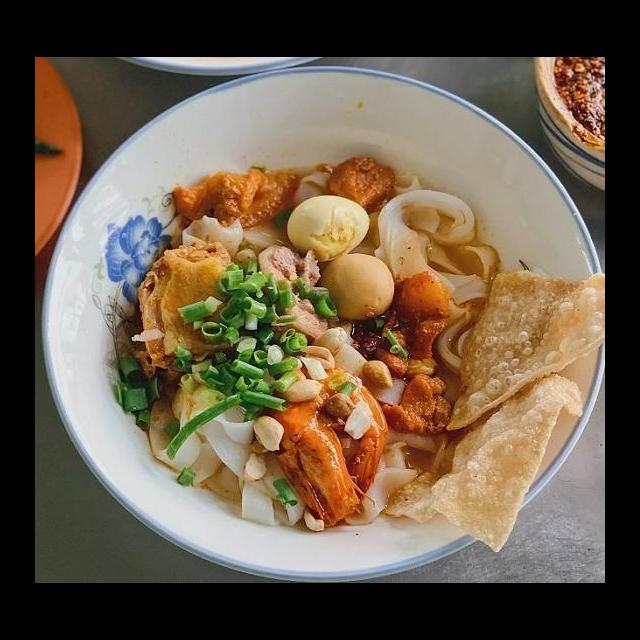banh da: (377, 368, 589, 556), (436, 266, 605, 434)
ca: (344, 266, 451, 377), (167, 164, 305, 232), (377, 371, 454, 438), (325, 152, 399, 220)
mi: (141, 368, 311, 529), (358, 172, 503, 308), (178, 212, 290, 276)
thit ga: (131, 238, 251, 380)
thit heo: (254, 240, 335, 342)
tom: (252, 350, 392, 530)
trung: (284, 192, 373, 265), (315, 250, 397, 322)
